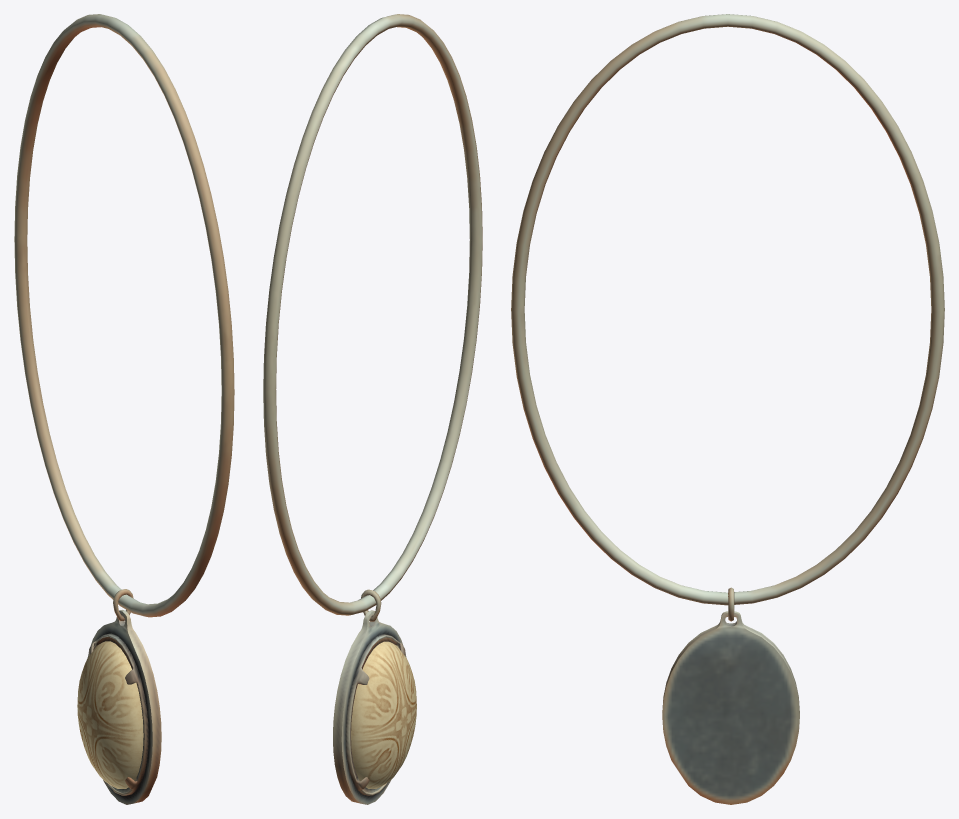
The model's file is SM_Necklace_A_Bronze.fbx.
The picture shows the model from 3 angles, left to right: view 1: azimuth 30°, elevation 25°; view 2: azimuth 150°, elevation 25°; view 3: azimuth 270°, elevation 25°; orthographic projection.
Visible parts, largest first — view 1: SM_Necklace_A_Bronze_LOD0; view 2: SM_Necklace_A_Bronze_LOD0; view 3: SM_Necklace_A_Bronze_LOD0.
Part boxes in pixels (bbox=[...]): SM_Necklace_A_Bronze_LOD0: bbox=[14, 14, 234, 804]; SM_Necklace_A_Bronze_LOD0: bbox=[263, 14, 482, 804]; SM_Necklace_A_Bronze_LOD0: bbox=[511, 14, 944, 804].
Bounding box in the file's own units: 1.66 × 13.88 × 27.83.
2 materials, 2 textured.
